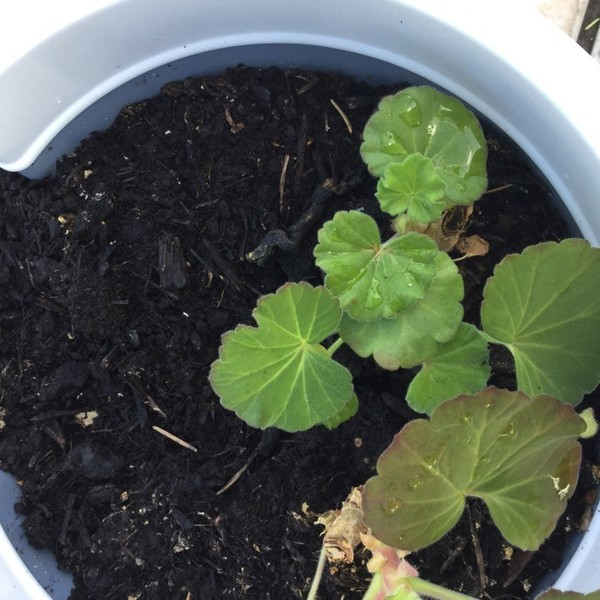obstacle: (157, 83, 573, 564)
